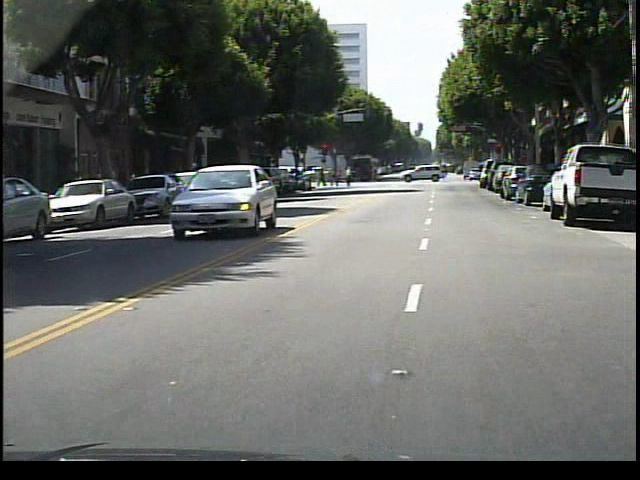person: (339, 163, 360, 192)
